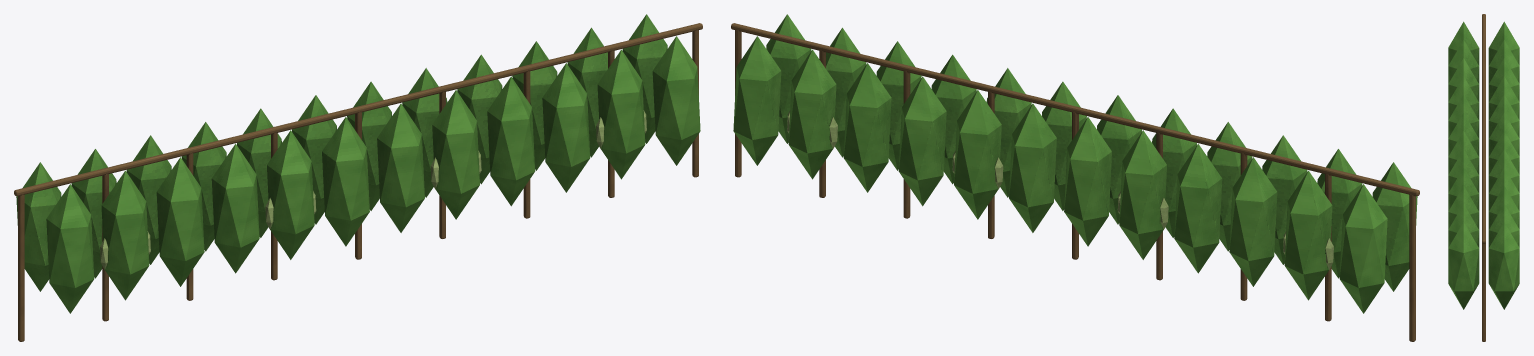
File: base_crop_bean.glb
3 views of the same model, side by side, from view 1: azimuth 30°, elevation 25°; view 2: azimuth 150°, elevation 25°; view 3: azimuth 270°, elevation 25° (orthographic). The views are drawn at different scales.
Parts seen in each view (by area): view 1: base_crop_bean; view 2: base_crop_bean; view 3: base_crop_bean.
Part boxes in pixels (x1,y1,x2,y2): base_crop_bean: (14, 14, 702, 341); base_crop_bean: (731, 14, 1419, 341); base_crop_bean: (1448, 14, 1519, 341).
Bounding box in the file's own units: 5.3 × 1.18 × 0.7062.
Materials: 3 (3 with a texture image).
